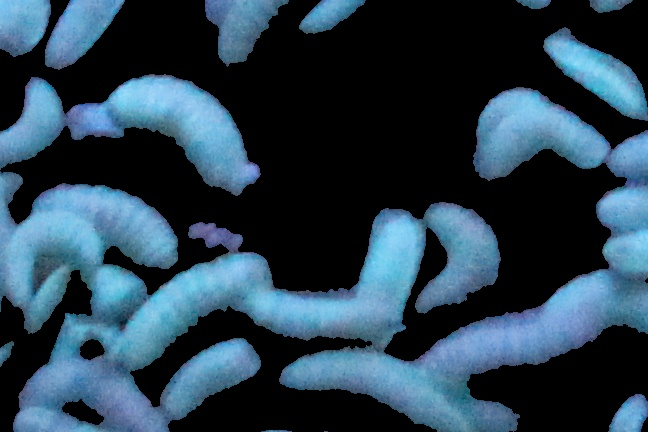larvae: (428, 278, 616, 383), (277, 345, 490, 432), (109, 78, 259, 198), (121, 254, 270, 363), (34, 185, 175, 262), (420, 198, 506, 317), (479, 98, 609, 176), (18, 362, 166, 430), (543, 26, 648, 121), (1, 219, 104, 302), (166, 338, 264, 419), (246, 285, 375, 344), (353, 207, 421, 308), (1, 79, 68, 169), (46, 1, 132, 69), (212, 1, 284, 69), (21, 268, 73, 334), (1, 1, 54, 58), (596, 185, 648, 233), (596, 230, 648, 277), (297, 1, 370, 34), (607, 132, 648, 176)
